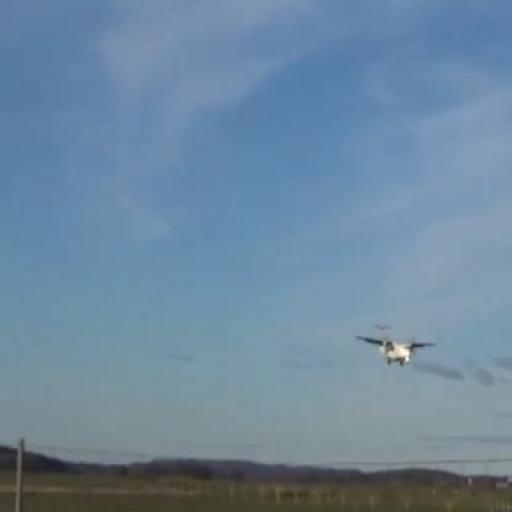aircraft: (354, 331, 436, 367)
